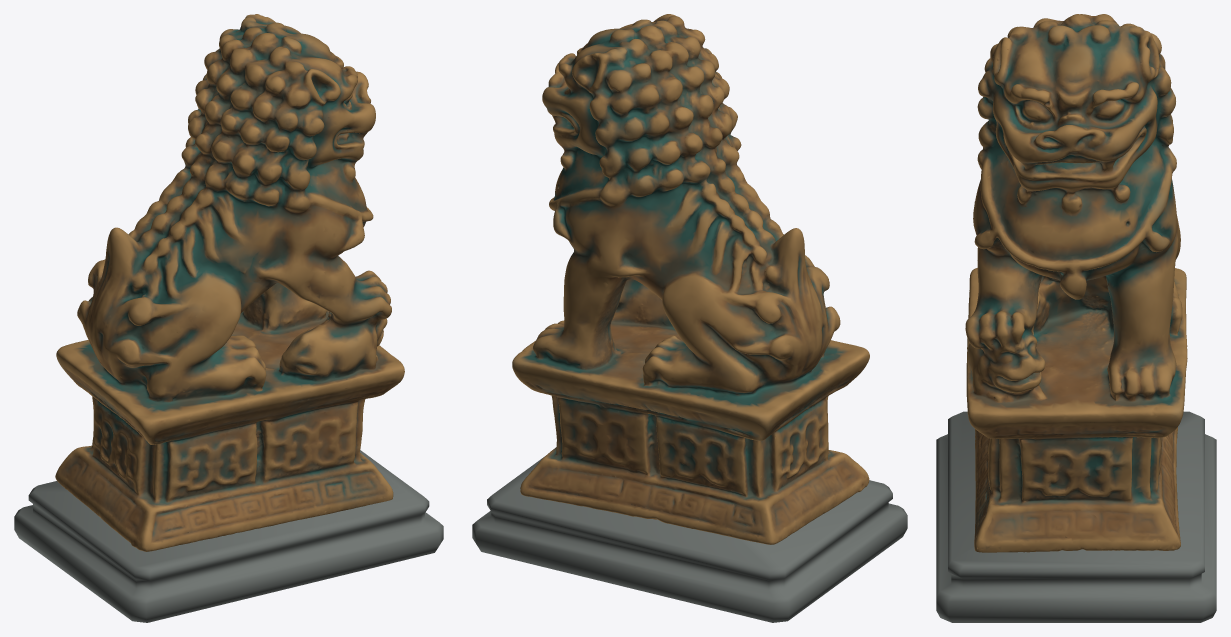
File: GateLion.glb
The picture shows the model from 3 angles, left to right: view 1: azimuth 30°, elevation 25°; view 2: azimuth 150°, elevation 25°; view 3: azimuth 270°, elevation 25°; orthographic projection. The views are drawn at different scales.
Parts seen in each view (by area): view 1: CastLion, CarvedFoot; view 2: CastLion, CarvedFoot; view 3: CastLion, CarvedFoot.
Boxes of the visible parts, x1,y1,x2,y2 form: CastLion: (55,14,404,551); CarvedFoot: (14,450,443,622); CastLion: (512,14,869,544); CarvedFoot: (472,457,907,622); CastLion: (965,14,1187,552); CarvedFoot: (936,411,1216,622).
Bounding box in the file's own units: 2.04 × 3.1 × 1.44.
